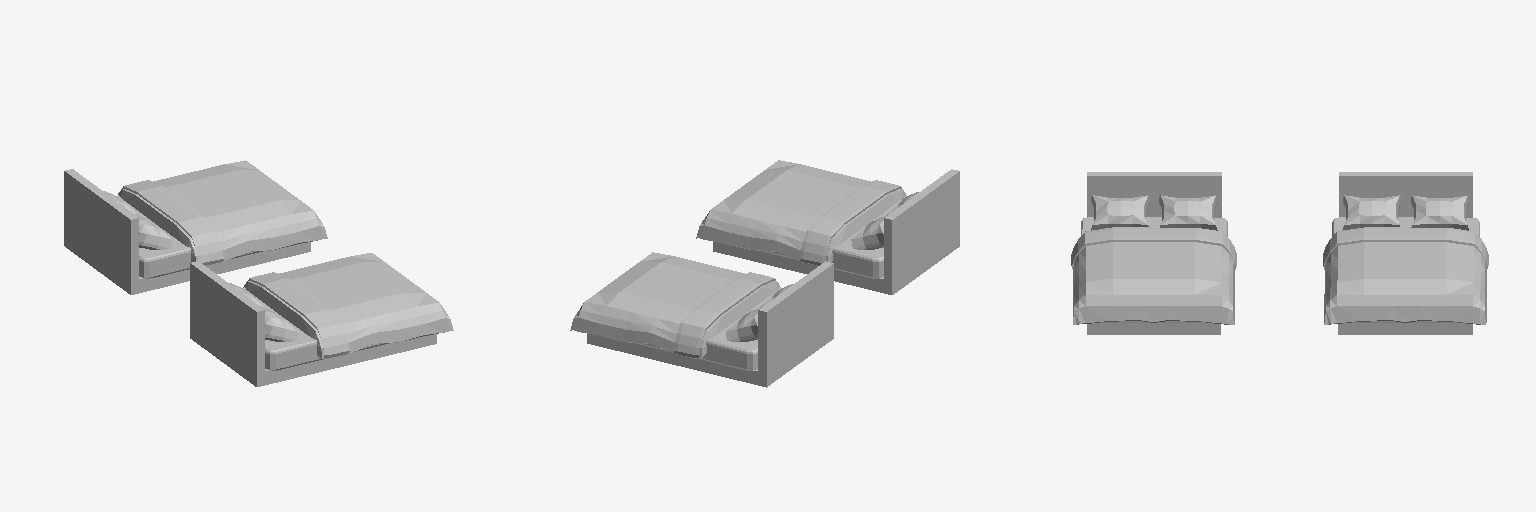
Rendered from Hotel.unity_2.obj.
3 renders of one model, left to right at view 1: azimuth 30°, elevation 25°; view 2: azimuth 150°, elevation 25°; view 3: azimuth 270°, elevation 25°, orthographic.
Parts seen in each view (by area): view 1: Bed; view 2: Bed; view 3: Bed.
Part boxes in pixels (x1,y1,x2,y2): Bed: (64,160,453,386); Bed: (570,160,959,387); Bed: (1071,172,1488,334).
Size of the model in its own units: 4.18 by 1.57 by 7.9.